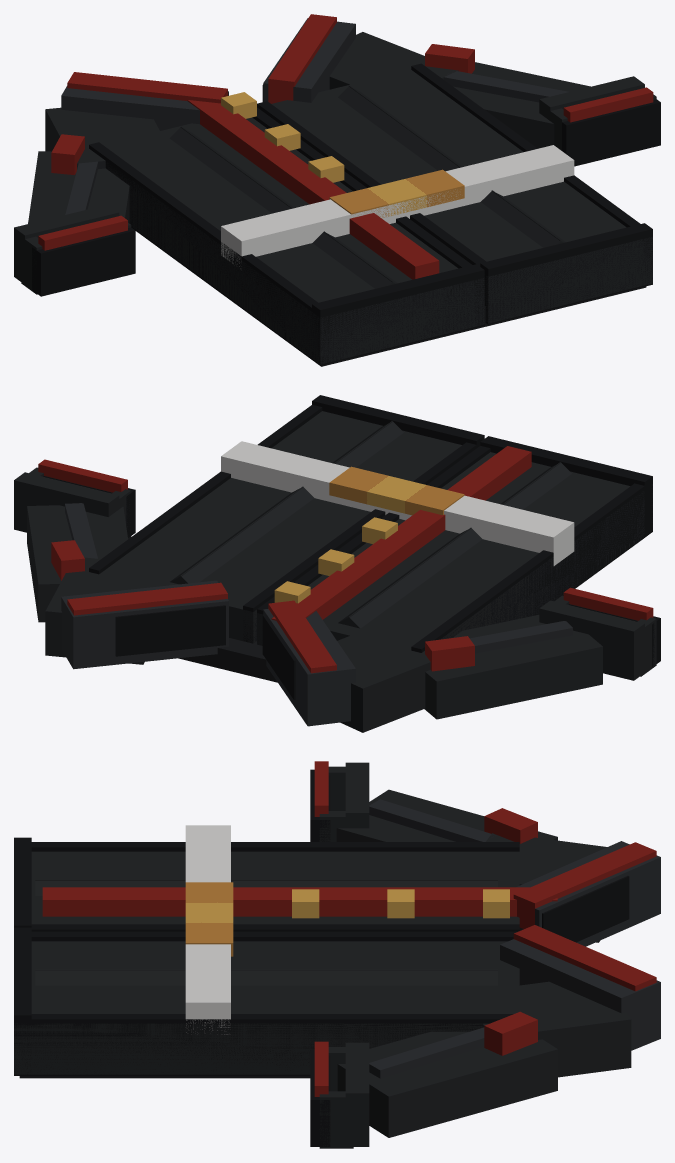
The model's file is CMU3DCMCoatDressBluesSeniorWorldCloud.glb.
The picture shows the model from 3 angles, top to bottom: view 1: azimuth 30°, elevation 25°; view 2: azimuth 150°, elevation 25°; view 3: azimuth 270°, elevation 25°; orthographic projection. The views are drawn at different scales.
Visible parts, largest first — view 1: left tailored front continuous woven panel, right tailored front continuous woven panel, white dress belt, left tailored front left bound seam, red vertical dress facing, left tailored front lower turned hem, right tailored front lower turned hem, left cuff lower turned lip, left broad connected shoulder, right cuff lower turned lip, right continuous angled sleeve, left tailored front left restrained cloth crease (+26 smaller); view 2: right tailored front continuous woven panel, left tailored front continuous woven panel, left continuous angled sleeve, white dress belt, left tailored front left bound seam, red vertical dress facing, left broad connected shoulder, right turned collar leaf, left turned collar leaf, right continuous angled sleeve, right collar inner crease, left cuff sewn upper lip (+27 smaller); view 3: right tailored front continuous woven panel, left tailored front continuous woven panel, right tailored front right bound seam, right continuous angled sleeve, red vertical dress facing, right broad connected shoulder, right tailored front right restrained cloth crease, white dress belt, right turned collar leaf, right tailored front left bound seam, left tailored front left bound seam, left turned collar leaf (+27 smaller).
Boxes of the visible parts, x1=… form: left tailored front continuous woven panel: x1=105, y1=117, x2=484, y2=364; right tailored front continuous woven panel: x1=271, y1=70, x2=652, y2=323; white dress belt: x1=221, y1=145, x2=574, y2=268; left tailored front left bound seam: x1=89, y1=142, x2=330, y2=365; red vertical dress facing: x1=187, y1=100, x2=439, y2=279; left tailored front lower turned hem: x1=312, y1=264, x2=484, y2=365; right tailored front lower turned hem: x1=480, y1=223, x2=652, y2=324; left cuff lower turned lip: x1=32, y1=227, x2=135, y2=296; left broad connected shoulder: x1=45, y1=107, x2=172, y2=169; right cuff lower turned lip: x1=562, y1=99, x2=660, y2=166; right continuous angled sleeve: x1=453, y1=62, x2=590, y2=148; left tailored front left restrained cloth crease: x1=169, y1=126, x2=392, y2=288; right tailored front continuous woven panel: x1=99, y1=411, x2=461, y2=643; left tailored front continuous woven panel: x1=257, y1=452, x2=652, y2=649; left continuous angled sleeve: x1=424, y1=614, x2=602, y2=719; white dress belt: x1=221, y1=441, x2=574, y2=565; left tailored front left bound seam: x1=411, y1=480, x2=652, y2=652; red vertical dress facing: x1=271, y1=446, x2=531, y2=620; left broad connected shoulder: x1=337, y1=619, x2=430, y2=732; right turned collar leaf: x1=61, y1=580, x2=228, y2=669; left turned collar leaf: x1=263, y1=609, x2=355, y2=726; right continuous angled sleeve: x1=27, y1=505, x2=127, y2=622; right collar inner crease: x1=115, y1=605, x2=225, y2=656; left cuff sewn upper lip: x1=539, y1=600, x2=644, y2=680; right tailored front continuous woven panel: x1=14, y1=941, x2=519, y2=1074; left tailored front continuous woven panel: x1=31, y1=851, x2=519, y2=924; right tailored front right bound seam: x1=14, y1=1014, x2=513, y2=1075; right continuous angled sleeve: x1=337, y1=1031, x2=557, y2=1137; red vertical dress facing: x1=42, y1=887, x2=557, y2=916; right broad connected shoulder: x1=482, y1=981, x2=631, y2=1077; right tailored front right restrained cloth crease: x1=35, y1=969, x2=497, y2=985; white dress belt: x1=185, y1=825, x2=230, y2=1034; right turned collar leaf: x1=500, y1=939, x2=660, y2=1050; right tailored front left bound seam: x1=31, y1=931, x2=517, y2=941; left tailored front left bound seam: x1=31, y1=842, x2=519, y2=851; left turned collar leaf: x1=516, y1=841, x2=660, y2=946.
Bounding box in the file's own units: 0.5125 × 0.059 × 0.4239.
Materials: 8 (1 with a texture image).
